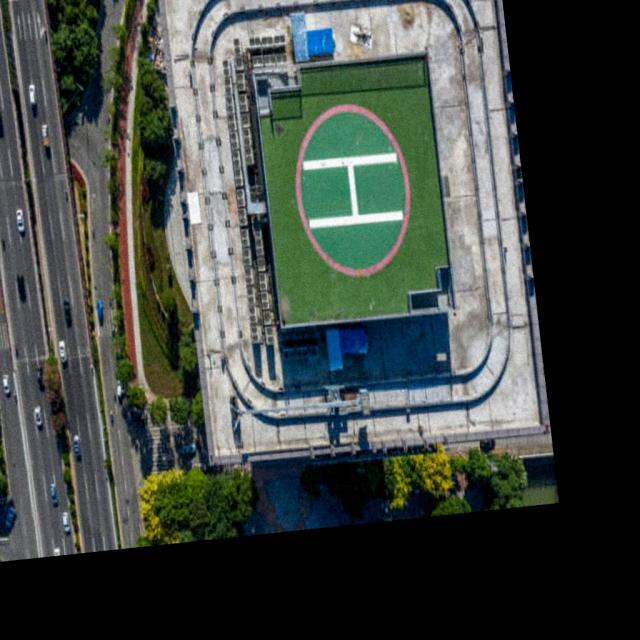helipad: (290, 99, 416, 282)
